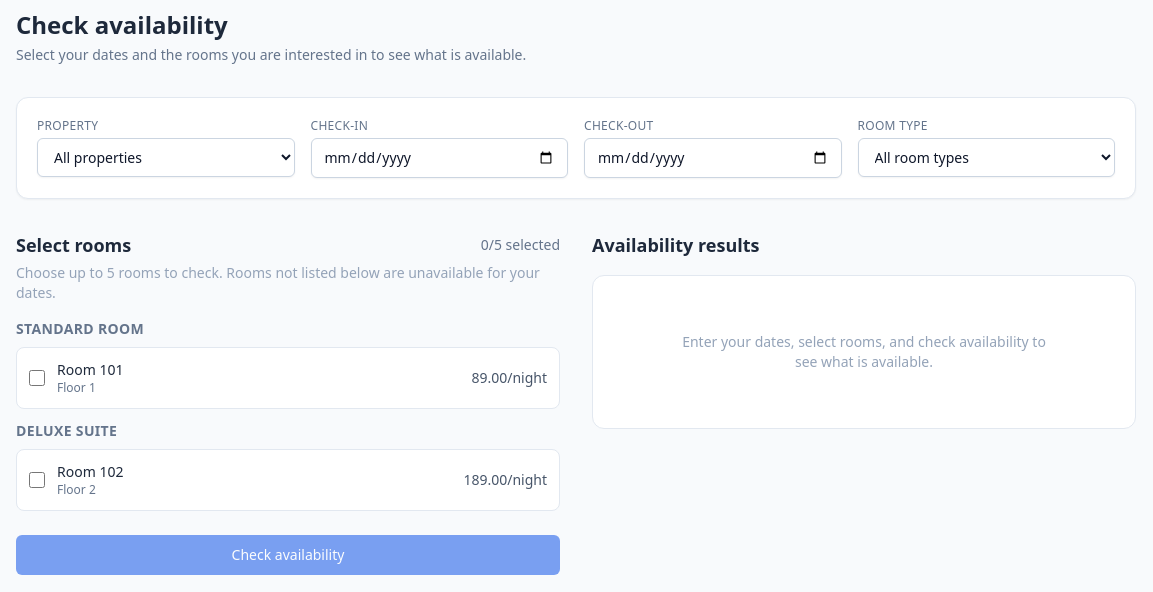
it: AvailabilitySearch page › searches and shows available rooms
Expected: the text "Room 101" is shown, [57,360,123,380]
In the date field labelled "Check-in": coordinates (439, 158) [310,138,568,178], type "2026-10-01"
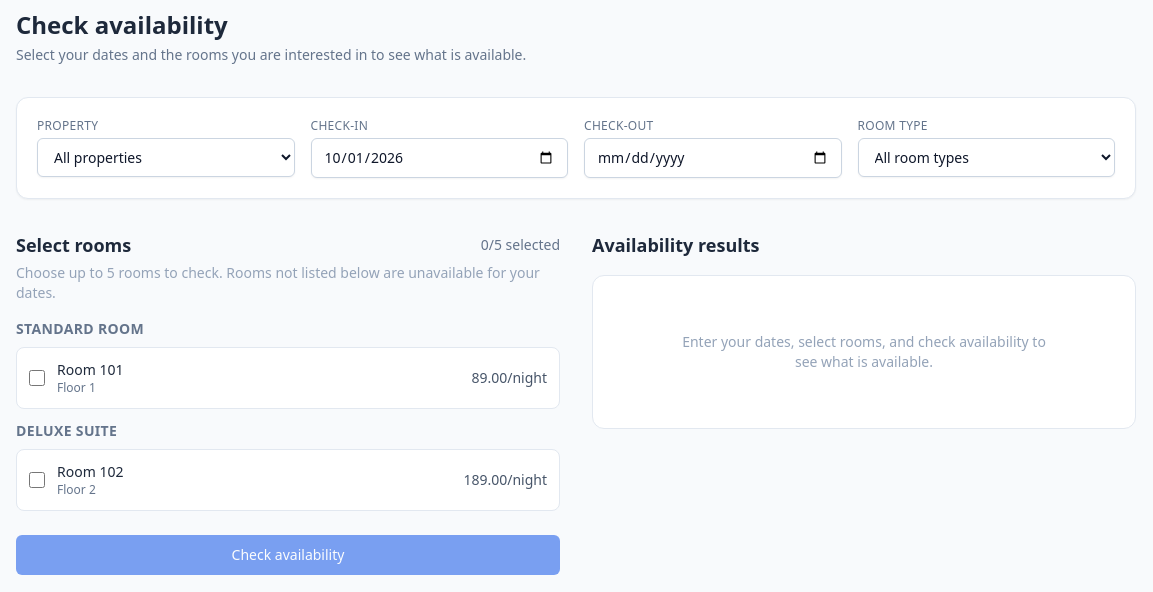
In the date field labelled "Check-out": coordinates (713, 158) [584,138,842,178], type "2026-10-05"
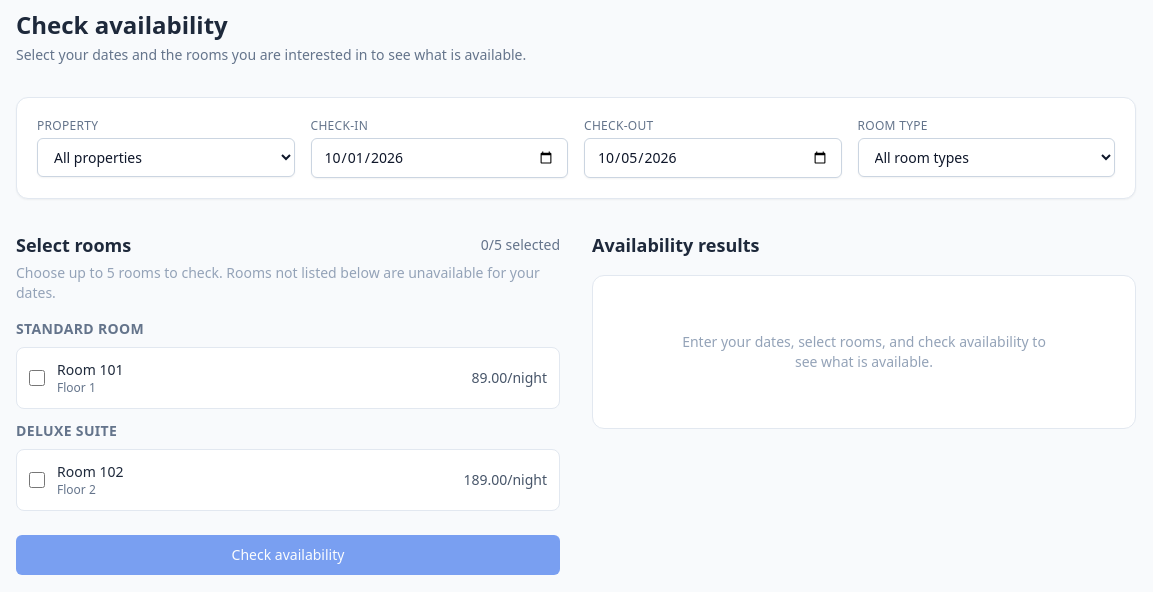
Click the checkbox labelled "Room 101 Floor 1 89.00/night": coordinates (37, 378) [29,370,45,386]
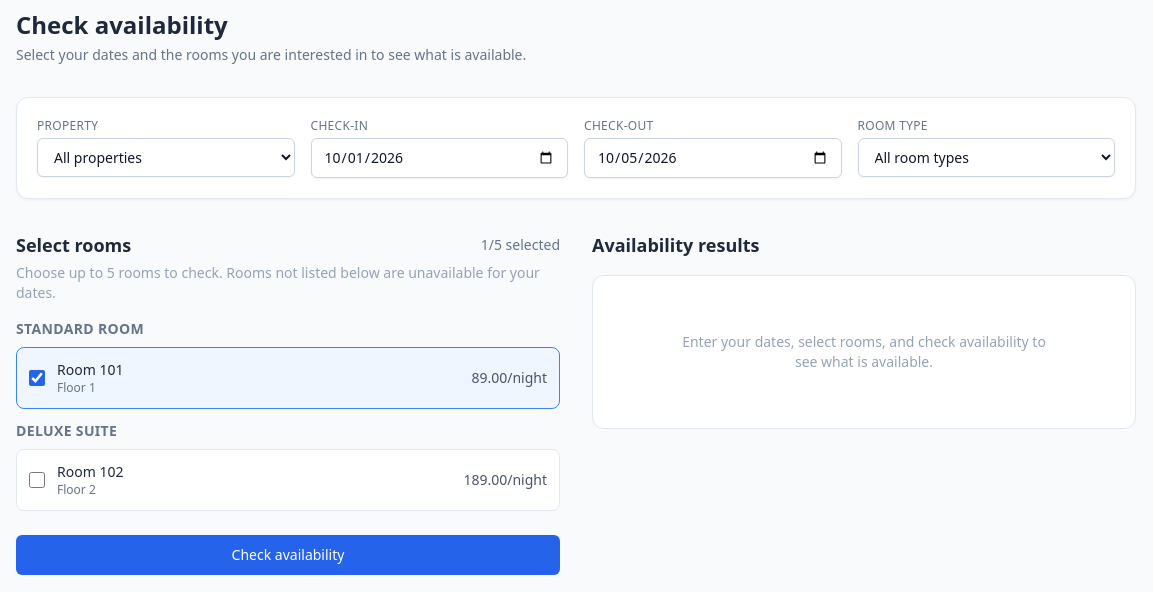
Click the button "Check availability": coordinates (288, 555) [16,535,560,575]
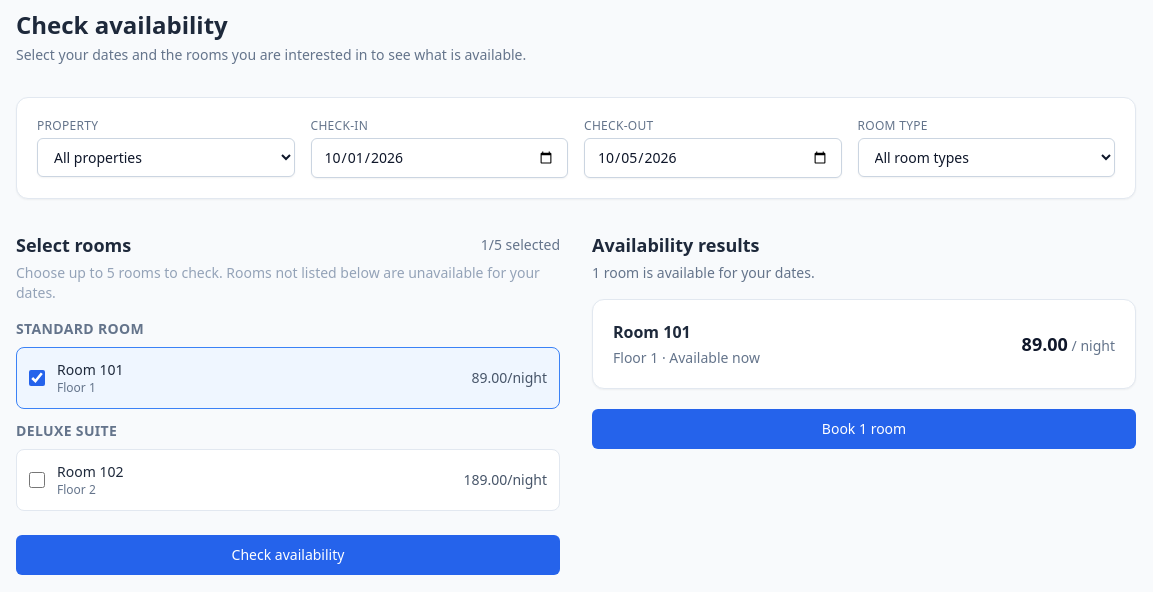
Now the text "1 room is available for your dates." is shown, box [592,263,815,282]
Now the text "89.00" is shown, box [1022,332,1068,356]
